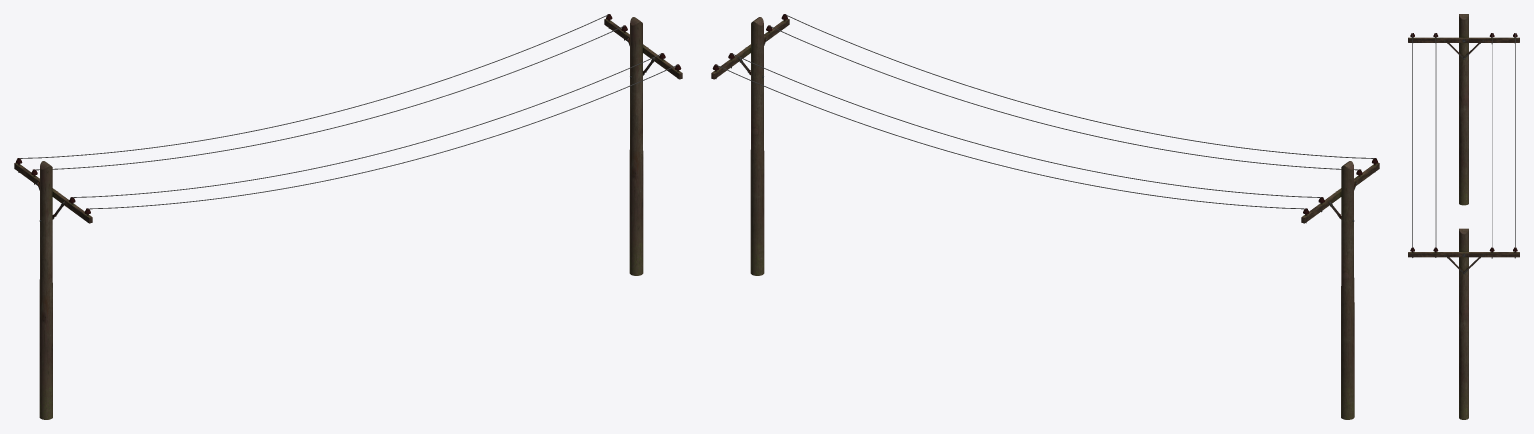
The model's file is electricity_pole.glb.
3 renders of one model, left to right at view 1: azimuth 30°, elevation 25°; view 2: azimuth 150°, elevation 25°; view 3: azimuth 270°, elevation 25°, orthographic. The views are drawn at different scales.
Parts seen in each view (by area): view 1: Cylinder, Catenary.003, Cylinder.001; view 2: Cylinder, Catenary.003, Cylinder.001; view 3: Cylinder, Cylinder.001, Catenary.003, Cube, Cube.003.
Boxes of the visible parts, left/top/right/bottom form: Cylinder: left=629, top=17, right=643, bottom=275; Catenary.003: left=19, top=14, right=677, bottom=209; Cylinder.001: left=39, top=161, right=52, bottom=419; Cylinder: left=750, top=17, right=764, bottom=275; Catenary.003: left=716, top=14, right=1375, bottom=209; Cylinder.001: left=1341, top=161, right=1354, bottom=419; Cylinder: left=1459, top=228, right=1468, bottom=419; Cylinder.001: left=1459, top=14, right=1468, bottom=205; Catenary.003: left=1412, top=33, right=1515, bottom=248; Cube: left=1408, top=252, right=1519, bottom=257; Cube.003: left=1408, top=37, right=1519, bottom=42.
Size of the model in its own units: 10.31 by 4.11 by 2.2.
7 materials, 6 textured.
